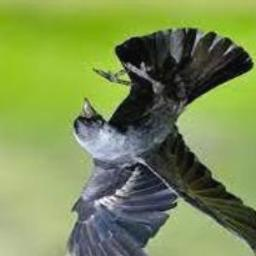Crow: (66, 29, 256, 256)
